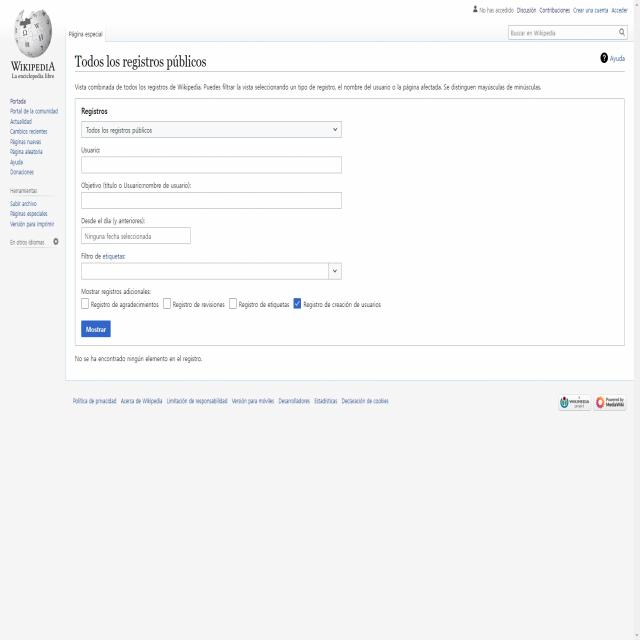menu-bar: (516, 2, 630, 16)
search: (507, 22, 628, 41)
side-panel: (2, 89, 64, 252)
